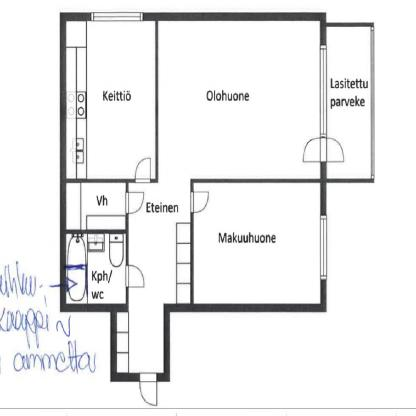door: (301, 138, 344, 169), (138, 372, 159, 407), (125, 264, 145, 290), (134, 156, 152, 183), (125, 192, 145, 213), (191, 192, 210, 214)
window: (320, 45, 327, 136), (90, 12, 142, 22), (320, 216, 328, 281)
zone: (116, 21, 318, 372), (194, 182, 320, 305), (66, 21, 155, 179), (327, 27, 369, 178), (65, 234, 125, 304), (66, 182, 125, 232)
